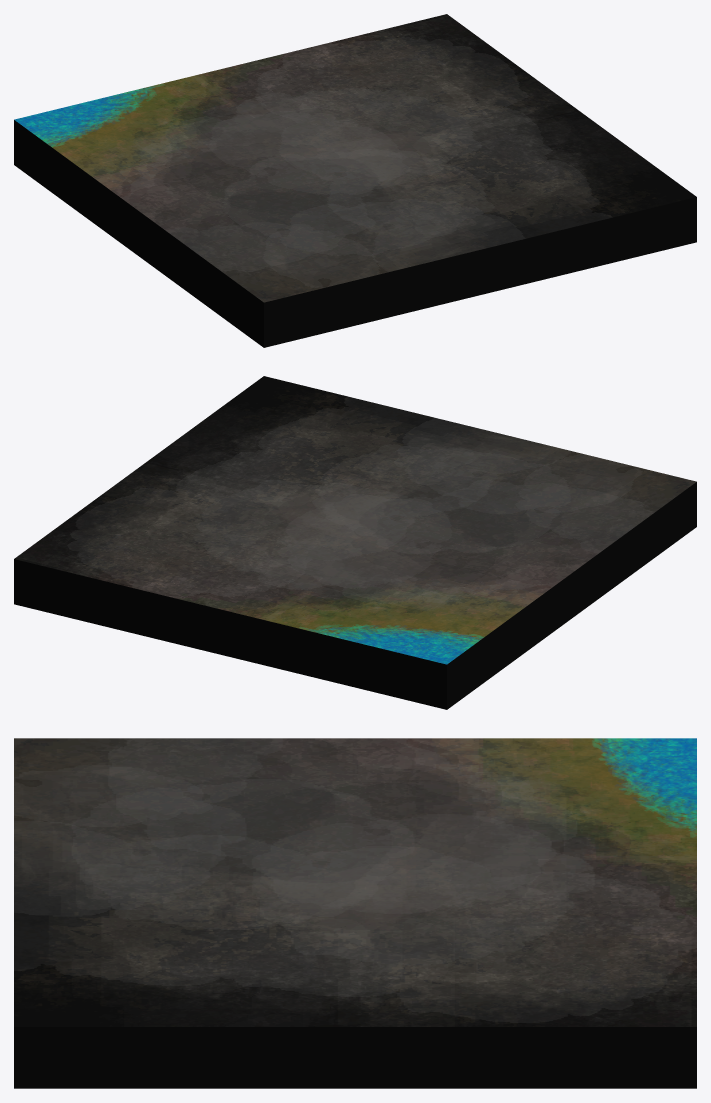
The model's file is Floor.fbx.
The picture shows the model from 3 angles, top to bottom: view 1: azimuth 30°, elevation 25°; view 2: azimuth 150°, elevation 25°; view 3: azimuth 270°, elevation 25°; orthographic projection. The views are drawn at different scales.
Parts seen in each view (by area): view 1: pCube1; view 2: pCube1; view 3: pCube1.
Boxes of the visible parts, x1,y1,x2,y2 form: pCube1: (14, 14, 696, 347); pCube1: (14, 376, 696, 709); pCube1: (14, 738, 696, 1088).
Size of the model in its own units: 3.94 by 0.3937 by 3.94.
Materials: 1 (1 with a texture image).
